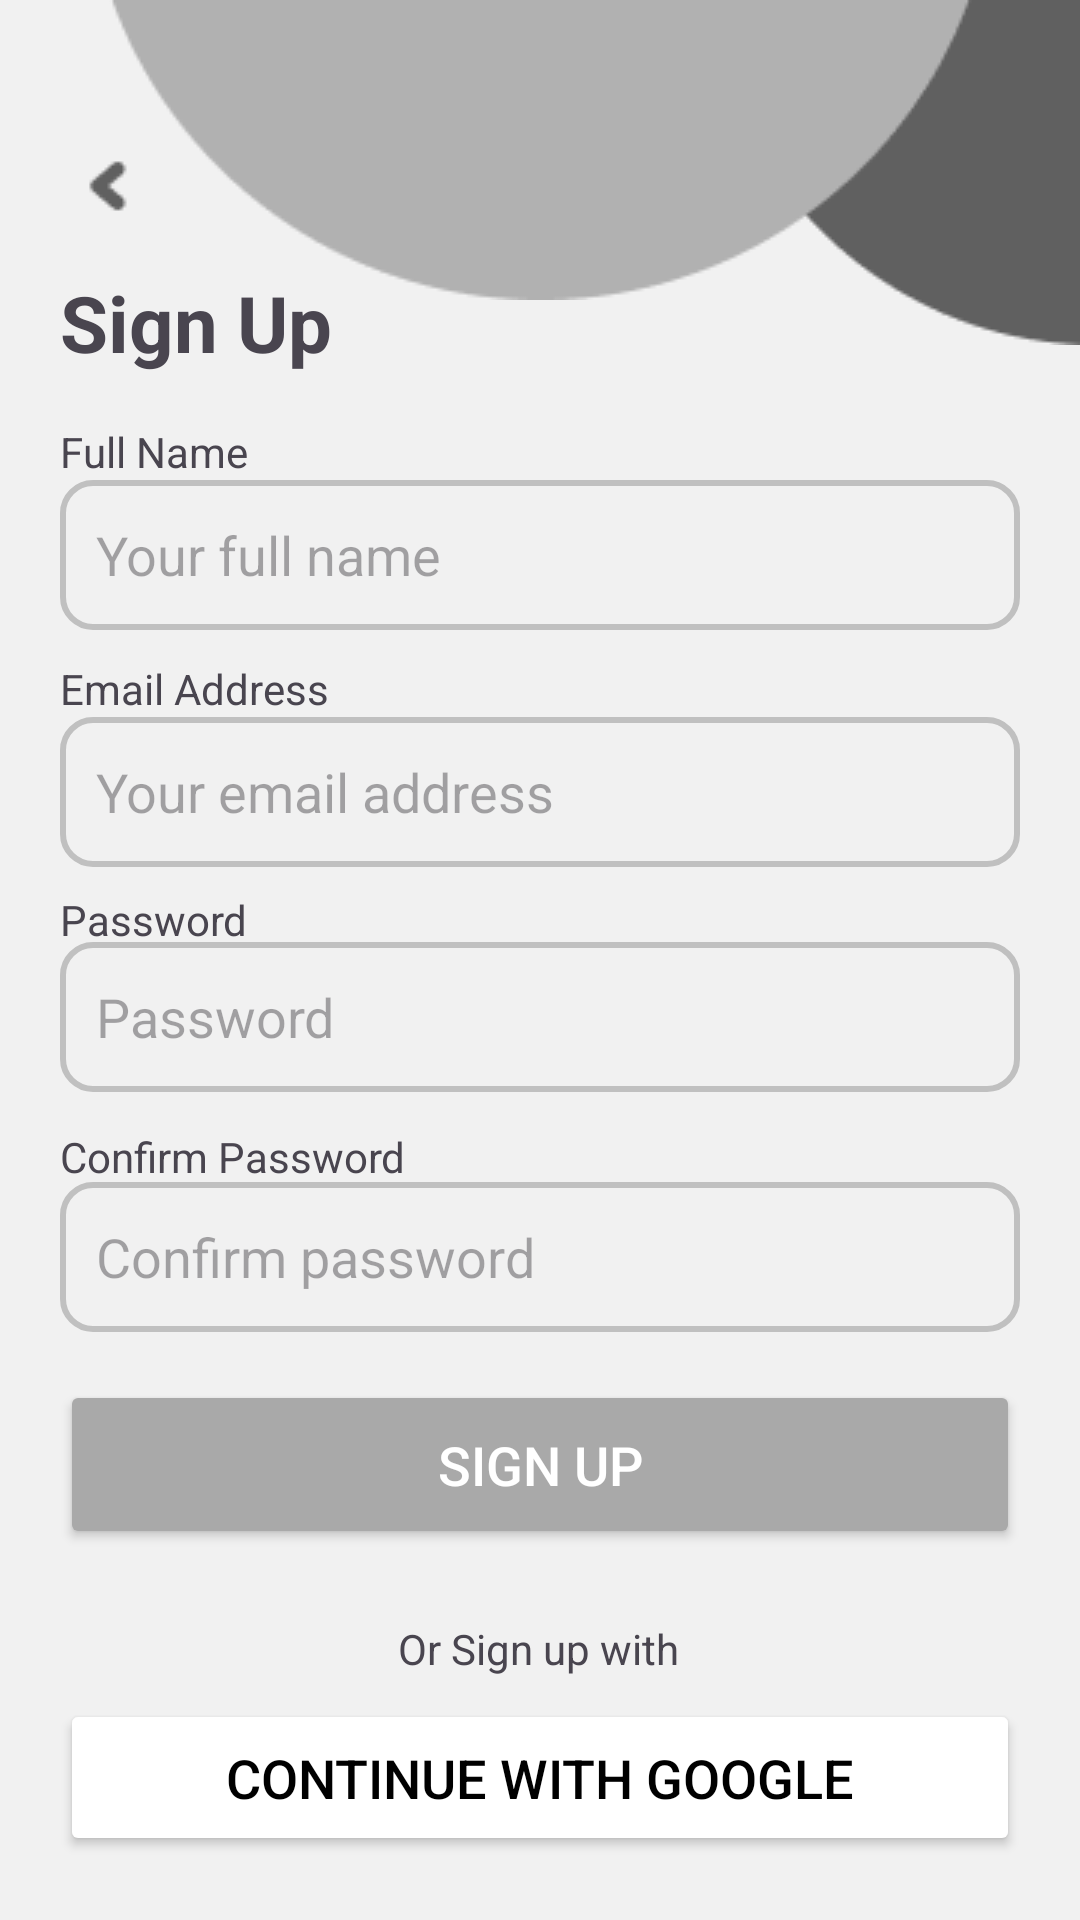

Icon bounding boxes for this 1080px x 1920px phone screenshot, format (x1, y1, x2, y2):
Back: (89, 161, 127, 211)
